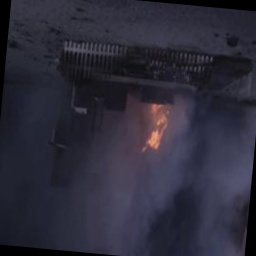fire: (135, 100, 174, 154)
smoke: (7, 144, 230, 256)
